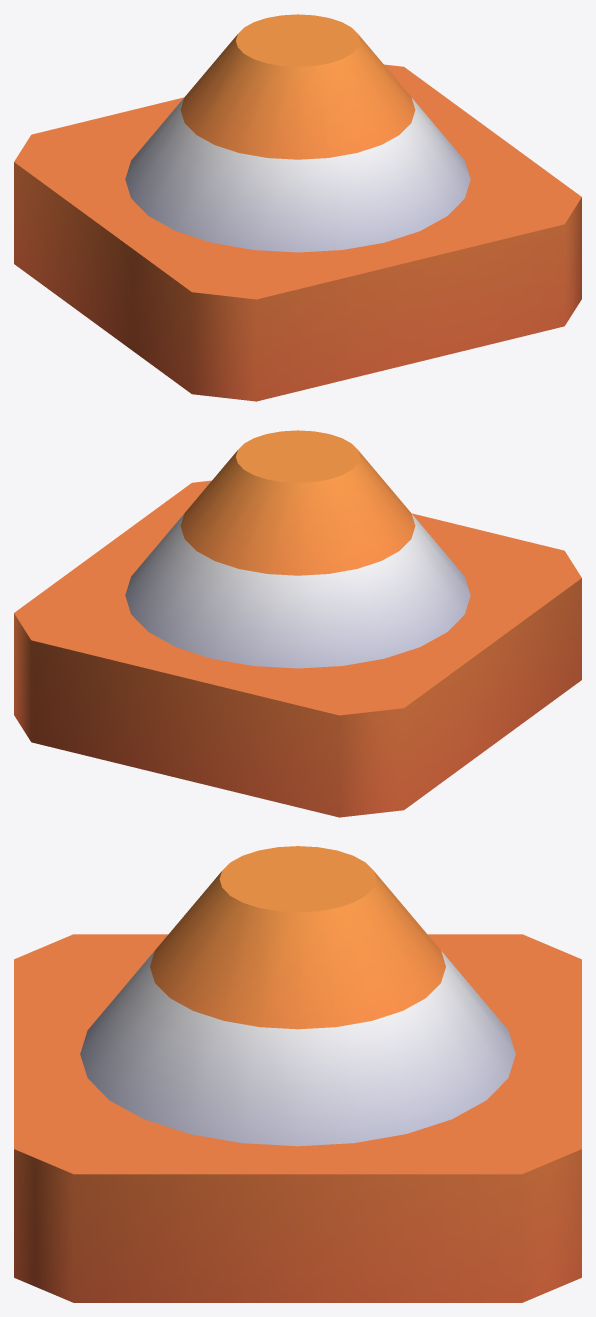
The model's file is cone-flat.fbx.
The picture shows the model from 3 angles, top to bottom: view 1: azimuth 30°, elevation 25°; view 2: azimuth 150°, elevation 25°; view 3: azimuth 270°, elevation 25°; orthographic projection. The views are drawn at different scales.
Parts seen in each view (by area): view 1: cone-flat; view 2: cone-flat; view 3: cone-flat.
Boxes of the visible parts, <box> form: cone-flat: <box>14,14,581,401</box>; cone-flat: <box>14,430,581,817</box>; cone-flat: <box>14,846,581,1302</box>.
Bounding box in the file's own units: 47.62 × 28.1 × 47.62.
1 material, 1 textured.
